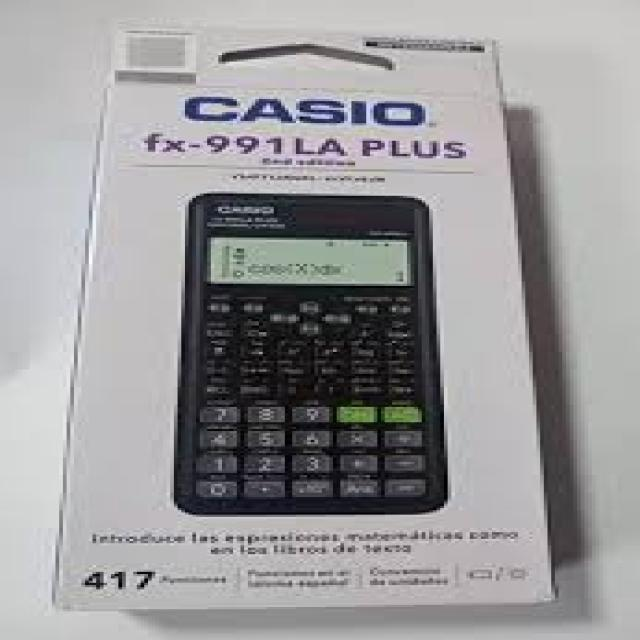Calculator: (164, 184, 462, 521)
